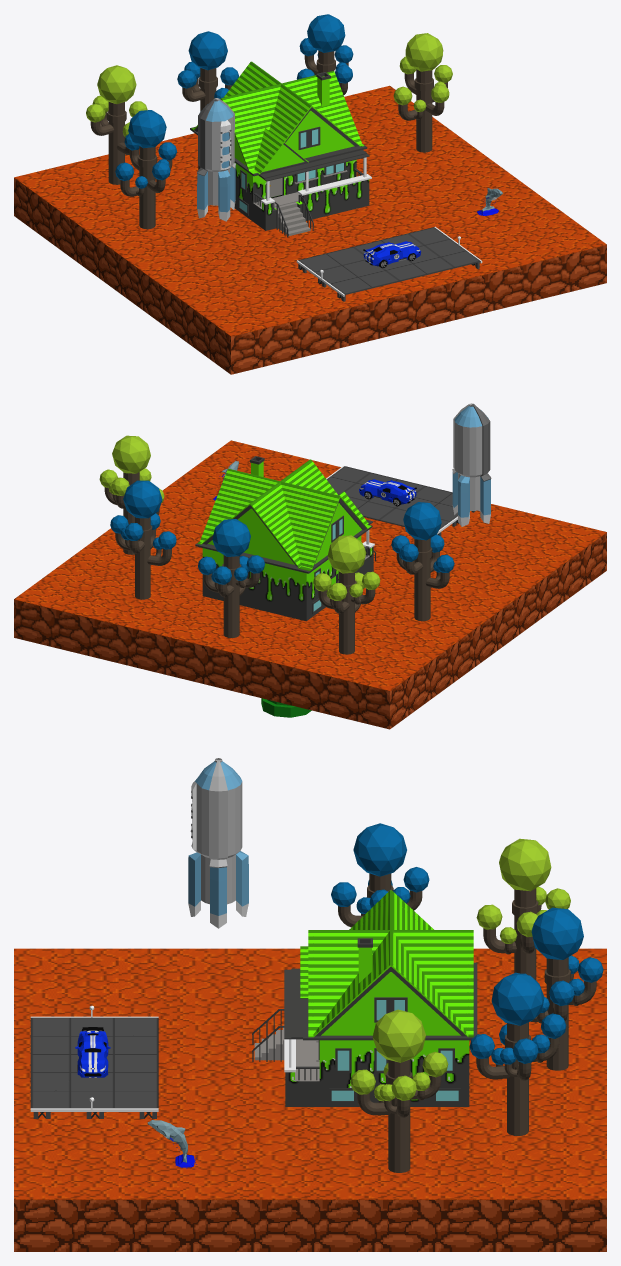
The picture shows the model from 3 angles, top to bottom: view 1: azimuth 30°, elevation 25°; view 2: azimuth 150°, elevation 25°; view 3: azimuth 270°, elevation 25°; orthographic projection. The views are drawn at different scales.
Parts seen in each view (by area): view 1: Cube.001, Cube.754, OBJRANDOM_ROCKETSHIP, VEHICLES_RACING_CAR; view 2: Cube.001, Cube.754, OBJRANDOM_ROCKETSHIP, VEHICLES_RACING_CAR, UNDERGROUND_PIPES; view 3: Cube.001, Cube.754, OBJRANDOM_ROCKETSHIP, VEHICLES_RACING_CAR, ANIMAL_DELFIN.
Boxes of the visible parts, box(x1,y1,x2,y2) form: Cube.001: box(14, 14, 606, 374); Cube.754: box(190, 61, 371, 237); OBJRANDOM_ROCKETSHIP: box(197, 98, 235, 221); VEHICLES_RACING_CAR: box(363, 241, 420, 267); Cube.001: box(14, 435, 606, 729); Cube.754: box(195, 456, 376, 621); OBJRANDOM_ROCKETSHIP: box(452, 403, 491, 526); VEHICLES_RACING_CAR: box(359, 479, 416, 506); UNDERGROUND_PIPES: box(261, 698, 311, 717); Cube.001: box(14, 823, 606, 1251); Cube.754: box(252, 890, 477, 1106); OBJRANDOM_ROCKETSHIP: box(188, 758, 248, 928); VEHICLES_RACING_CAR: box(75, 1027, 110, 1077); ANIMAL_DELFIN: box(147, 1120, 196, 1168).
Bounding box in the file's own units: 4000 × 2759 × 4000.
34 materials, 5 textured.
